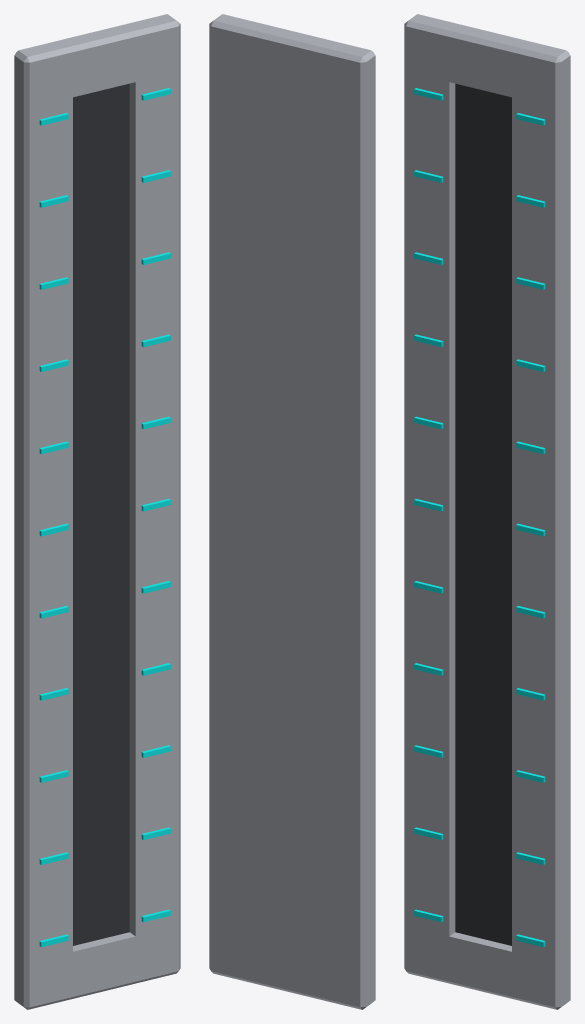
Rendered from linear_gauge_body.glb.
The picture shows the model from 3 angles, left to right: view 1: azimuth 30°, elevation 25°; view 2: azimuth 150°, elevation 25°; view 3: azimuth 330°, elevation 25°; orthographic projection.
Visible parts, largest first — view 1: LinearGaugeBody; view 2: LinearGaugeBody; view 3: LinearGaugeBody.
Boxes of the visible parts, x1=… form: LinearGaugeBody: x1=14, y1=14, x2=180, y2=1009; LinearGaugeBody: x1=209, y1=14, x2=375, y2=1009; LinearGaugeBody: x1=404, y1=14, x2=570, y2=1009.
Bounding box in the file's own units: 0.04 × 0.232 × 0.0068.
